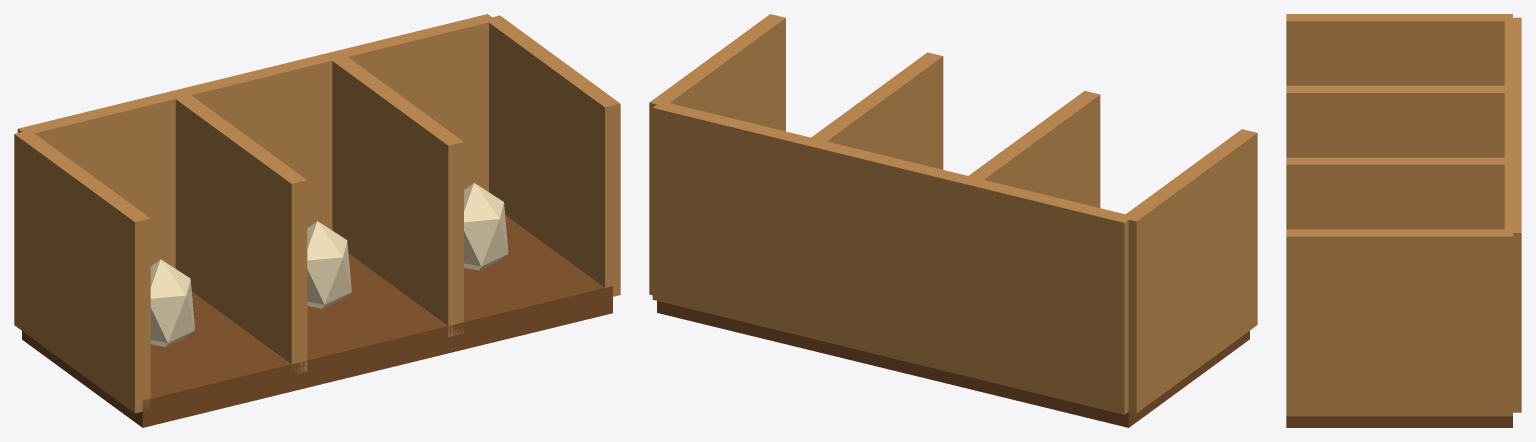
The model's file is nesting_box.glb.
3 views of the same model, side by side, from view 1: azimuth 30°, elevation 25°; view 2: azimuth 150°, elevation 25°; view 3: azimuth 270°, elevation 25° (orthographic). The views are drawn at different scales.
Visible parts, largest first — view 1: nesting_box; view 2: nesting_box; view 3: nesting_box.
Boxes of the visible parts, x1,y1,x2,y2 form: nesting_box: (14, 14, 620, 427); nesting_box: (649, 14, 1257, 427); nesting_box: (1286, 14, 1521, 427).
Size of the model in its own units: 0.93 by 0.38 by 0.415.
